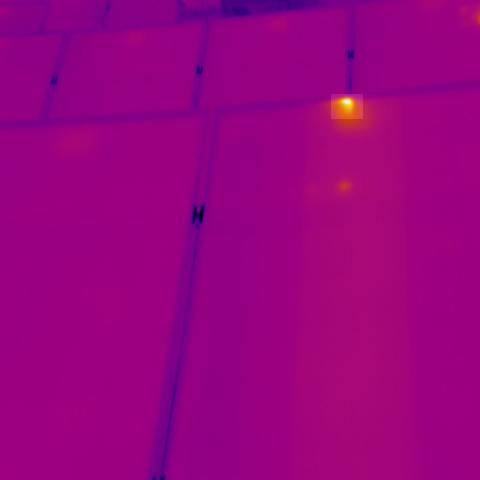fault: (331, 94, 363, 119)
